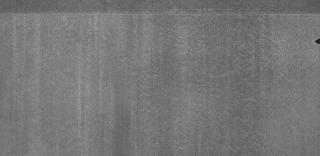punching hole: (312, 38, 320, 44)
silk spot: (8, 23, 294, 153)
welding line: (1, 9, 320, 19)
